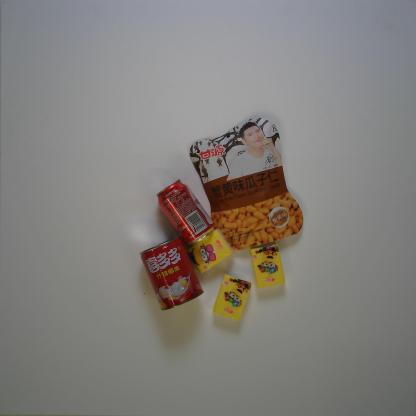Canned Food: (139, 236, 204, 311)
Dried Fruit: (188, 113, 304, 252)
Drink: (156, 178, 215, 247)
Tissue: (187, 228, 235, 275), (212, 274, 252, 322), (249, 243, 286, 288)
